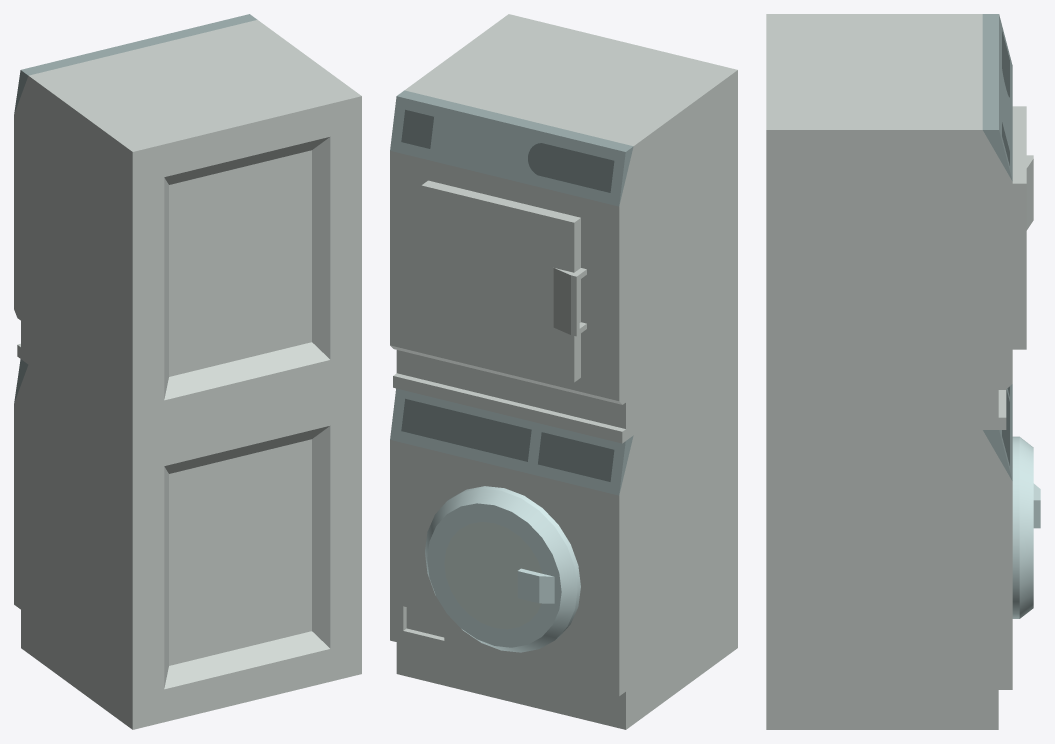
The model's file is washer_dryer_stacked.glb.
3 views of the same model, side by side, from view 1: azimuth 30°, elevation 25°; view 2: azimuth 150°, elevation 25°; view 3: azimuth 270°, elevation 25° (orthographic). The views are drawn at different scales.
Visible parts, largest first — view 1: _MeshInstance3D_650; view 2: _MeshInstance3D_650, _MeshInstance3D_648, _MeshInstance3D_649; view 3: _MeshInstance3D_650, _MeshInstance3D_649, _MeshInstance3D_648.
Boxes of the visible parts, left/top/right/bottom form: _MeshInstance3D_650: left=14, top=14, right=361, bottom=729; _MeshInstance3D_650: left=390, top=14, right=737, bottom=729; _MeshInstance3D_648: left=421, top=180, right=586, bottom=382; _MeshInstance3D_649: left=425, top=486, right=580, bottom=652; _MeshInstance3D_650: left=766, top=14, right=1012, bottom=729; _MeshInstance3D_649: left=1012, top=436, right=1040, bottom=618; _MeshInstance3D_648: left=1012, top=106, right=1033, bottom=349.
Size of the model in its own units: 3.9 by 9.4 by 3.9.
